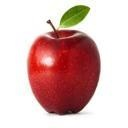apple: (27, 28, 102, 116)
